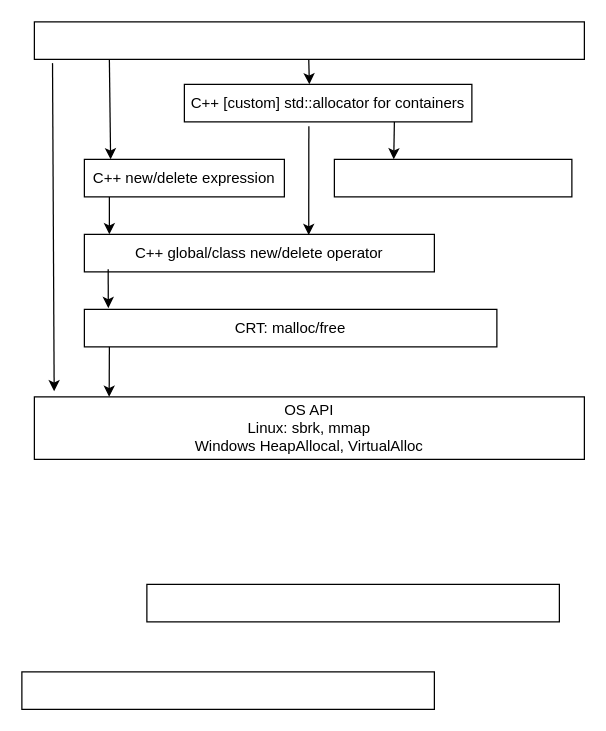
This 606x731 diagram has some shape labels left out. The centre of each missing label's shape, as x and y in pixels:
C++ Application: (308,40)
C++ std::pmr::memory_resource: (452,177)
